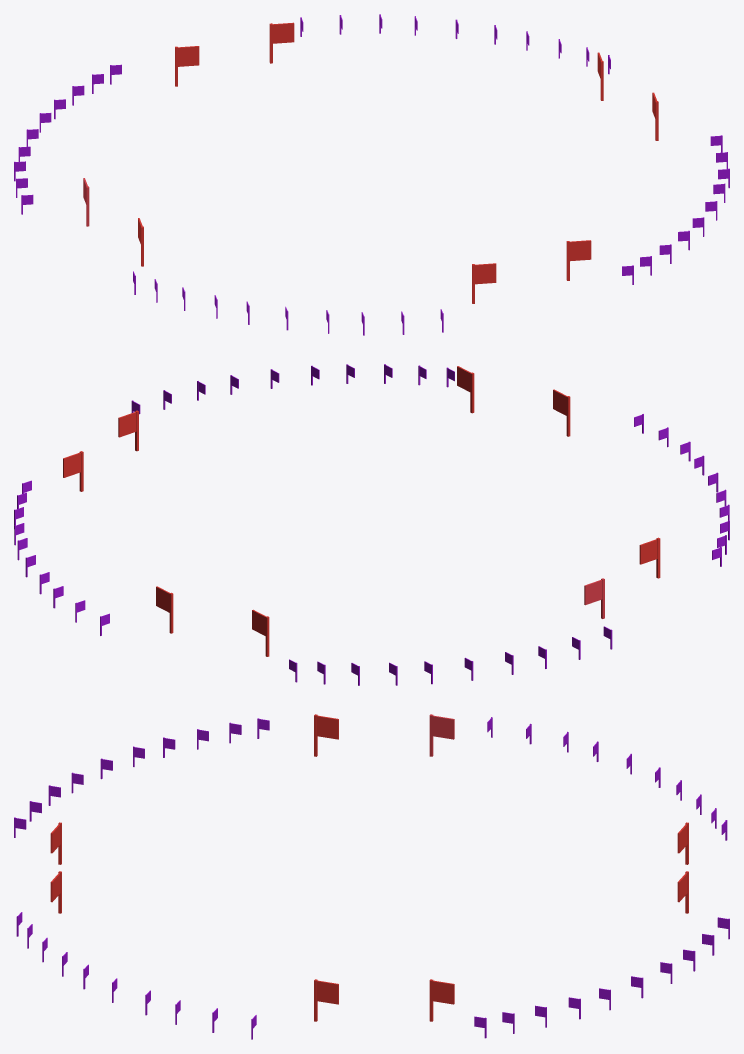
File: BANDERAS.fbx
The picture shows the model from 3 angles, top to bottom: view 1: azimuth 30°, elevation 25°; view 2: azimuth 150°, elevation 25°; view 3: azimuth 270°, elevation 25°; orthographic projection. The views are drawn at different scales.
Visible parts, largest first — view 1: Cube.005, Cube.007, Cube.008, Cube.006; view 2: Cube.002, Cube.003; view 3: Cube.001, Cube.003, Cube.002, Cube.004.
Part boxes in pixels (bbox=[...]): Cube.005: bbox=[269, 22, 294, 63]; Cube.007: bbox=[566, 240, 591, 280]; Cube.008: bbox=[472, 263, 496, 303]; Cube.006: bbox=[175, 46, 199, 86]; Cube.002: bbox=[639, 537, 660, 578]; Cube.003: bbox=[63, 451, 83, 491]; Cube.001: bbox=[429, 714, 454, 756]; Cube.003: bbox=[429, 979, 454, 1021]; Cube.002: bbox=[314, 714, 338, 756]; Cube.004: bbox=[314, 979, 338, 1021].
Size of the model in its own units: 4606 by 294 by 4606.
